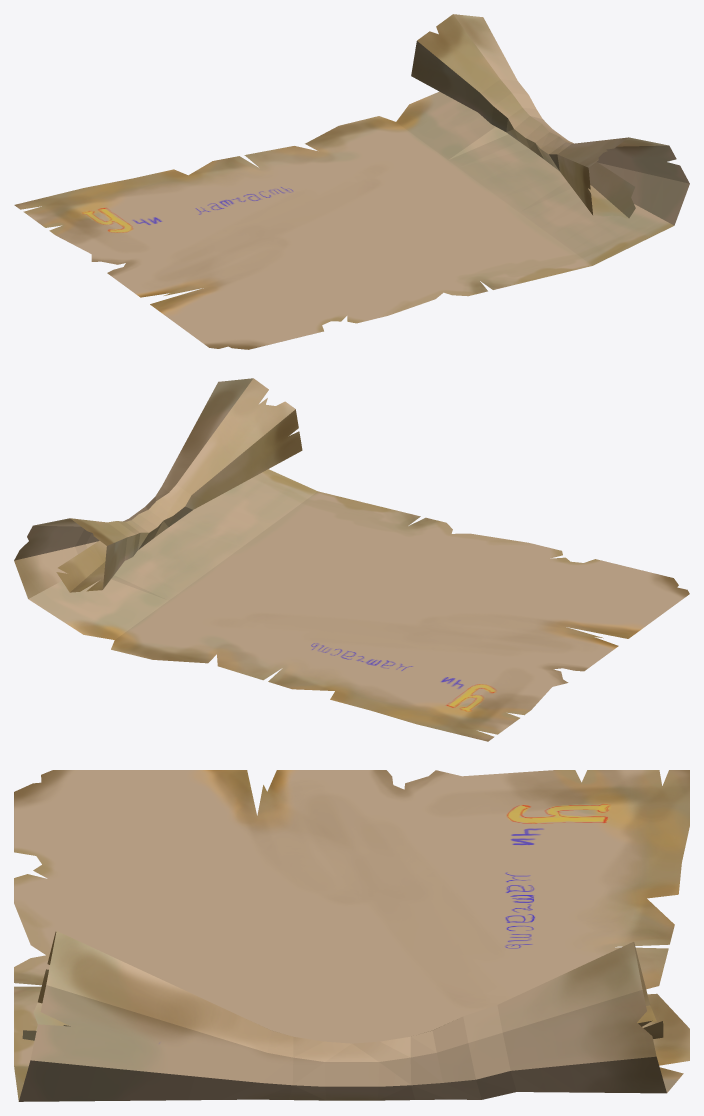
File: scroll.obj
3 views of the same model, one above another, from view 1: azimuth 30°, elevation 25°; view 2: azimuth 150°, elevation 25°; view 3: azimuth 270°, elevation 25° (orthographic). The views are drawn at different scales.
Visible parts, largest first — view 1: Plane_Plane.001; view 2: Plane_Plane.001; view 3: Plane_Plane.001.
Part boxes in pixels (left/top/right/bottom): Plane_Plane.001: left=14, top=14, right=689, bottom=349; Plane_Plane.001: left=14, top=378, right=689, bottom=741; Plane_Plane.001: left=14, top=770, right=689, bottom=1101.
Bounding box in the file's own units: 6.55 × 1.41 × 4.96.
1 material, 1 textured.
